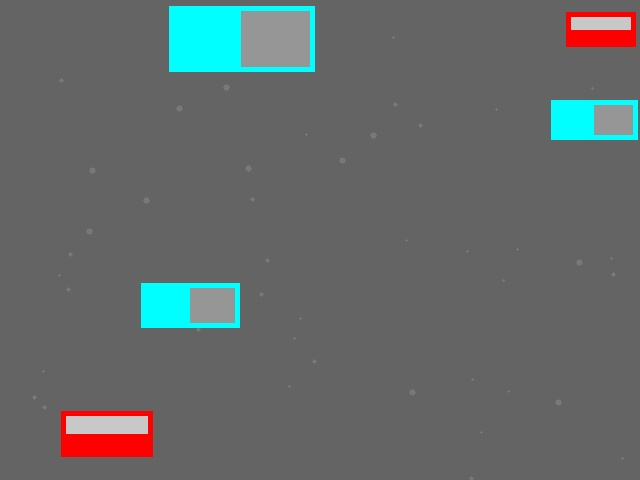car: (61, 411, 152, 456), (566, 12, 635, 46)
truck: (169, 6, 314, 71), (141, 283, 239, 327), (551, 100, 637, 139)
